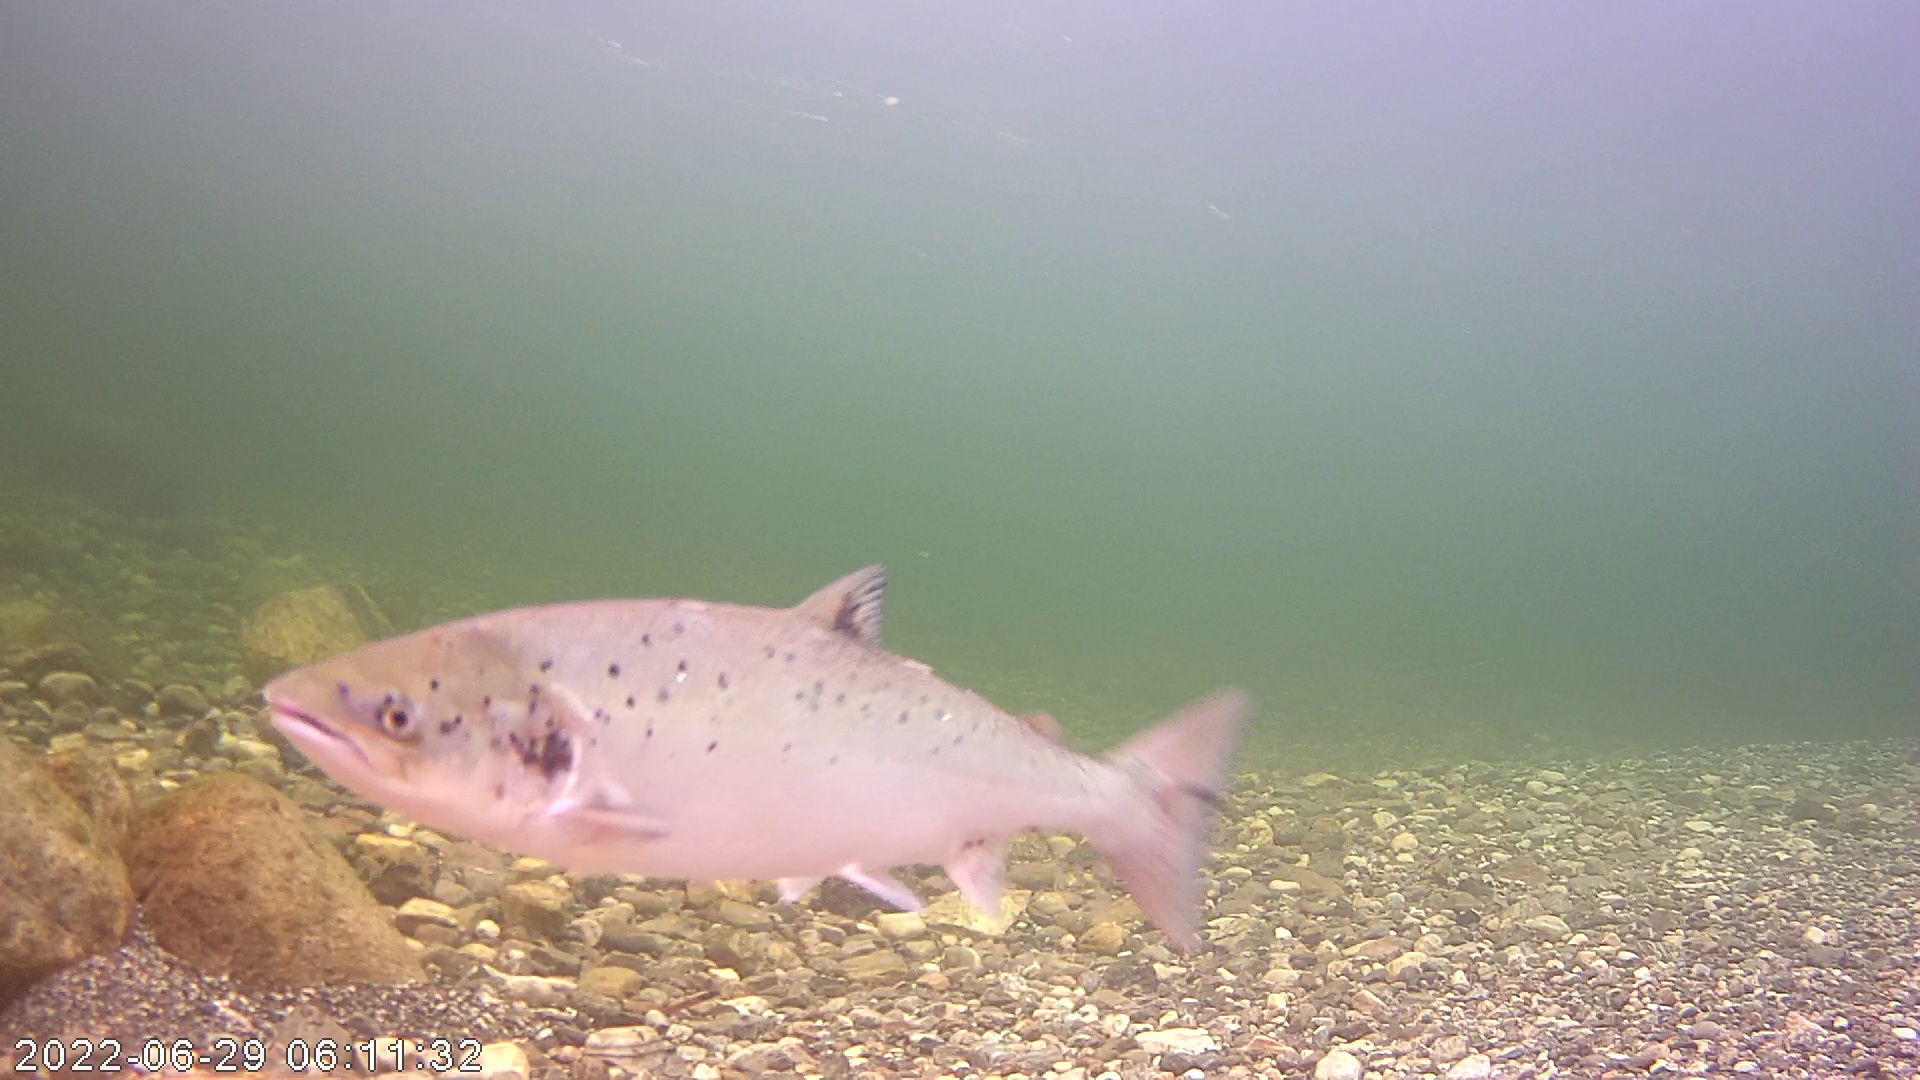salmon: (258, 456, 1241, 934)
